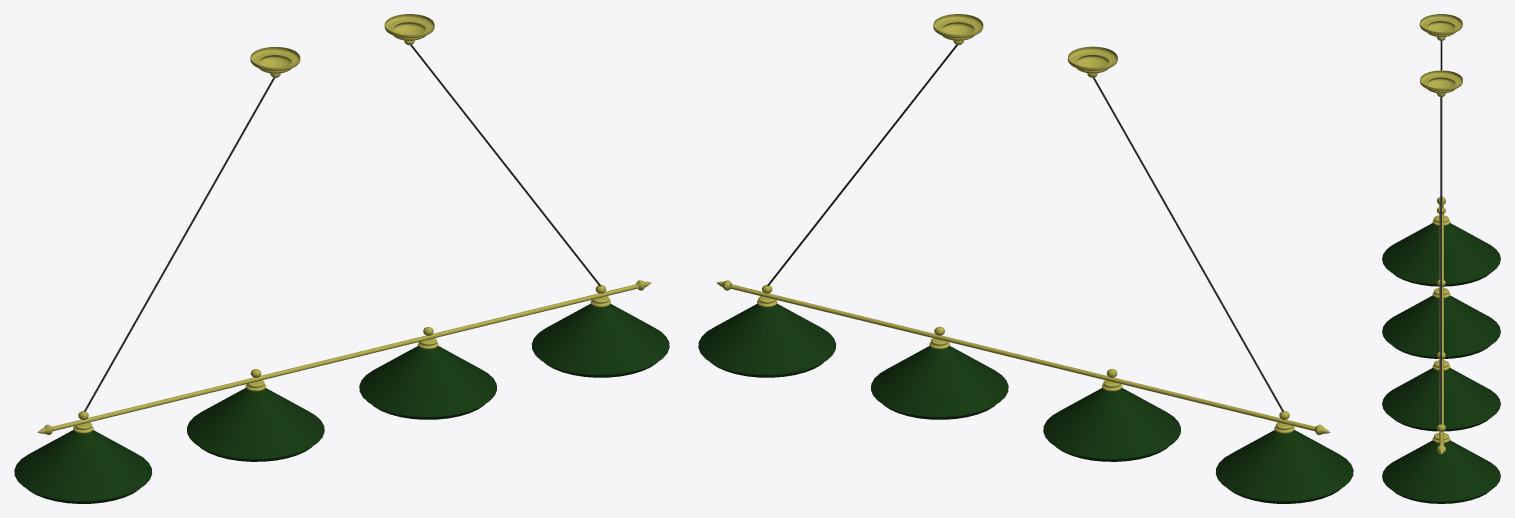
File: lamp.obj
The picture shows the model from 3 angles, left to right: view 1: azimuth 30°, elevation 25°; view 2: azimuth 150°, elevation 25°; view 3: azimuth 270°, elevation 25°; orthographic projection. The views are drawn at different scales.
Visible parts, largest first — view 1: covers, bar, Line28, Line040, chain2, chain1; view 2: covers, bar, Line28, Line040, chain2, chain1; view 3: covers, bar, Line28, Line040, chain1, chain2.
Boxes of the visible parts, x1=… form: covers: x1=14, y1=303, x2=669, y2=503; bar: x1=52, y1=284, x2=637, y2=430; Line28: x1=384, y1=14, x2=434, y2=40; Line040: x1=250, y1=47, x2=300, y2=73; chain2: x1=84, y1=77, x2=274, y2=411; chain1: x1=410, y1=45, x2=600, y2=286; covers: x1=698, y1=303, x2=1353, y2=503; bar: x1=730, y1=284, x2=1315, y2=431; Line28: x1=933, y1=14, x2=983, y2=40; Line040: x1=1067, y1=46, x2=1117, y2=73; chain2: x1=1093, y1=77, x2=1283, y2=411; chain1: x1=767, y1=44, x2=957, y2=285; covers: x1=1382, y1=223, x2=1500, y2=503; bar: x1=1439, y1=201, x2=1443, y2=445; Line28: x1=1420, y1=70, x2=1462, y2=93; Line040: x1=1419, y1=14, x2=1462, y2=37; chain1: x1=1440, y1=97, x2=1441, y2=424; chain2: x1=1440, y1=41, x2=1442, y2=207.
Size of the model in its own units: 94.35 by 52.84 by 17.72.
